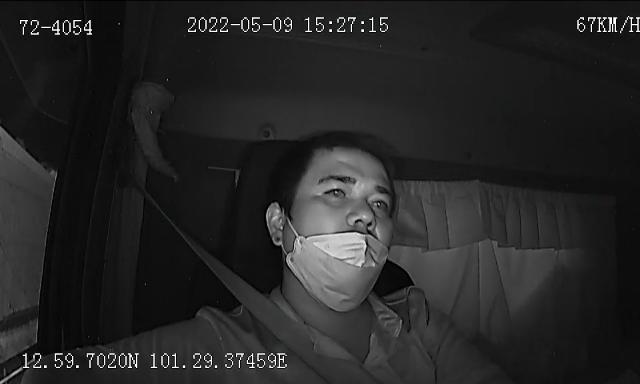SafeDriving: (318, 180, 354, 204), (364, 190, 394, 214)
Seatbelt: (180, 234, 382, 384)
